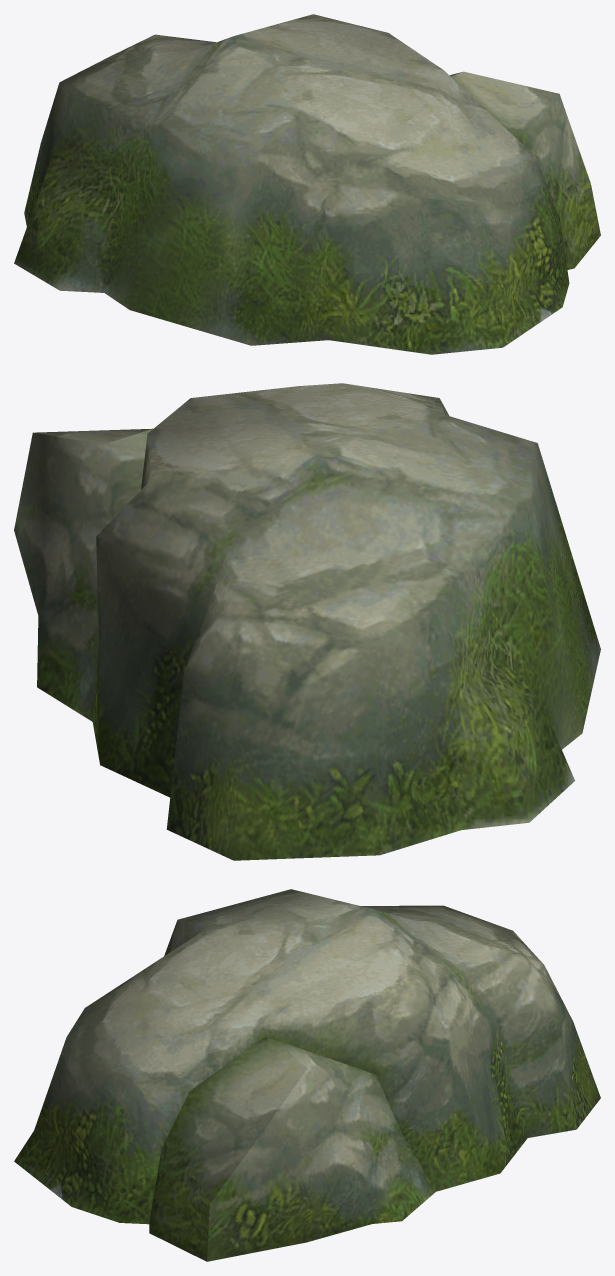
Rendered from Item_3002_shitou_shitou03.FBX.
3 renders of one model, top to bottom at view 1: azimuth 30°, elevation 25°; view 2: azimuth 150°, elevation 25°; view 3: azimuth 270°, elevation 25°, orthographic. The views are drawn at different scales.
Parts seen in each view (by area): view 1: Item_3002_shitou_shitou03; view 2: Item_3002_shitou_shitou03; view 3: Item_3002_shitou_shitou03.
Boxes of the visible parts, left/top/right/bottom form: Item_3002_shitou_shitou03: left=14, top=14, right=600, bottom=354; Item_3002_shitou_shitou03: left=14, top=383, right=600, bottom=860; Item_3002_shitou_shitou03: left=14, top=889, right=600, bottom=1261.
Bounding box in the file's own units: 1945 × 827 × 2067.
